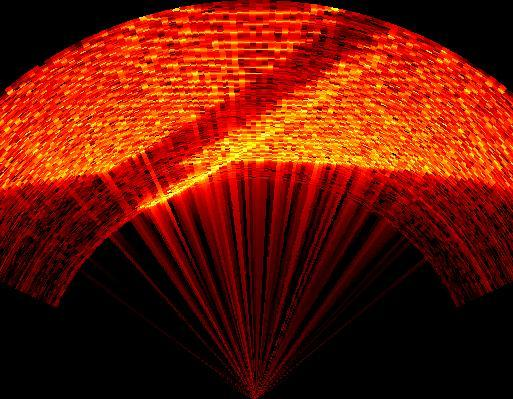pipe: (100, 11, 408, 214)
